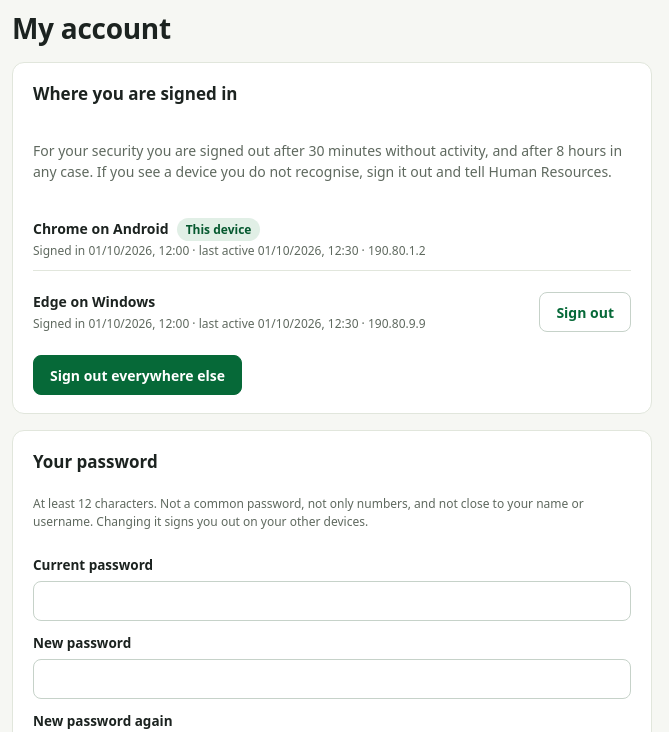
Test case: my account › signs out one other device
Click the button with aria-label "Sign out of Edge on Windows": (585, 312) top-left (539, 292), bottom-right (631, 332)
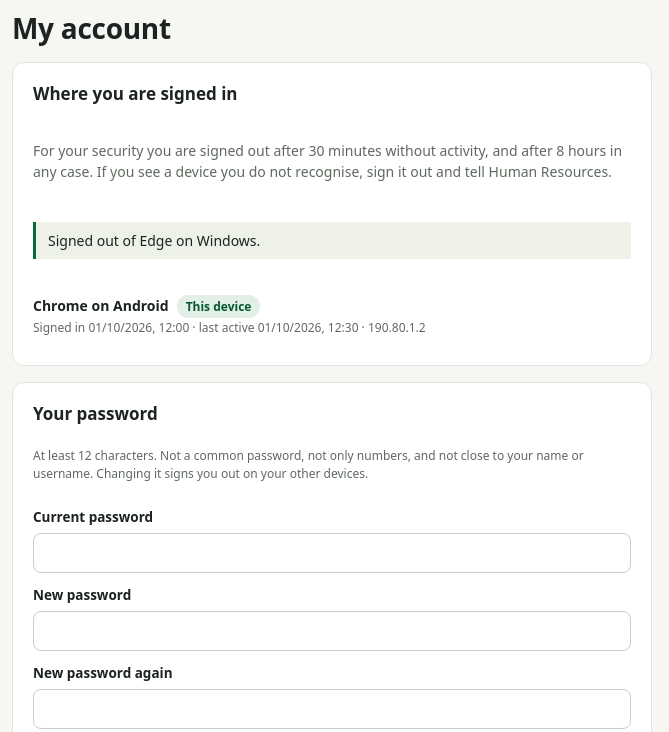
Now the message reads "Signed out of Edge on Windows.", box top-left (48, 231), bottom-right (260, 250)
Now the number of list items is 1, box top-left (33, 295), bottom-right (426, 336)
